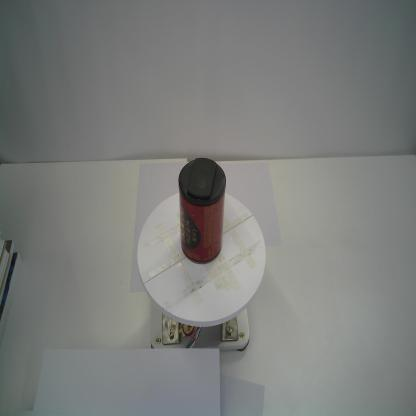Canned Food: (178, 157, 228, 265)
